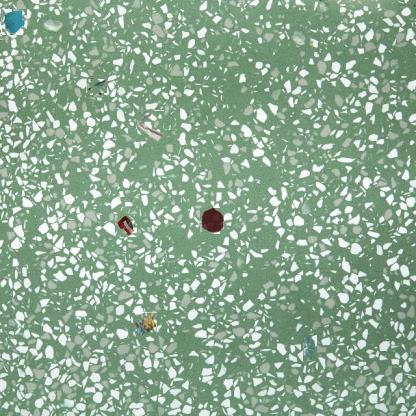dirty: (136, 110, 164, 142), (1, 9, 27, 35), (132, 312, 158, 337), (115, 214, 138, 236), (88, 78, 106, 95)
liquid: (200, 208, 224, 234), (303, 335, 317, 361)
